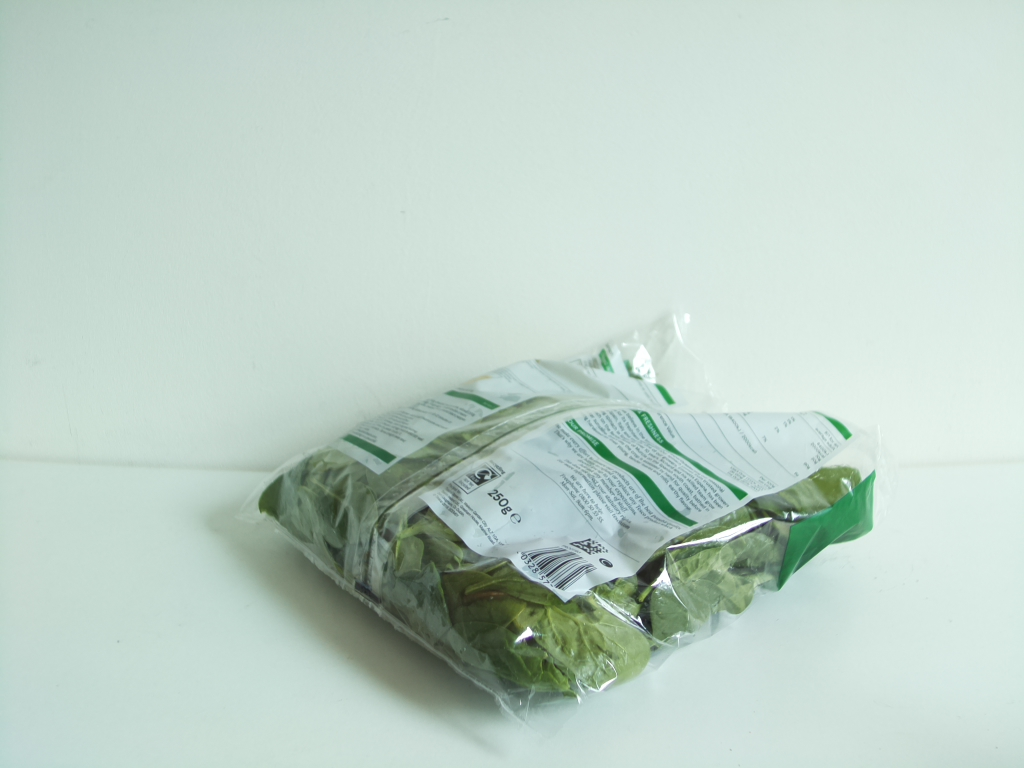salad: (263, 345, 875, 705)
